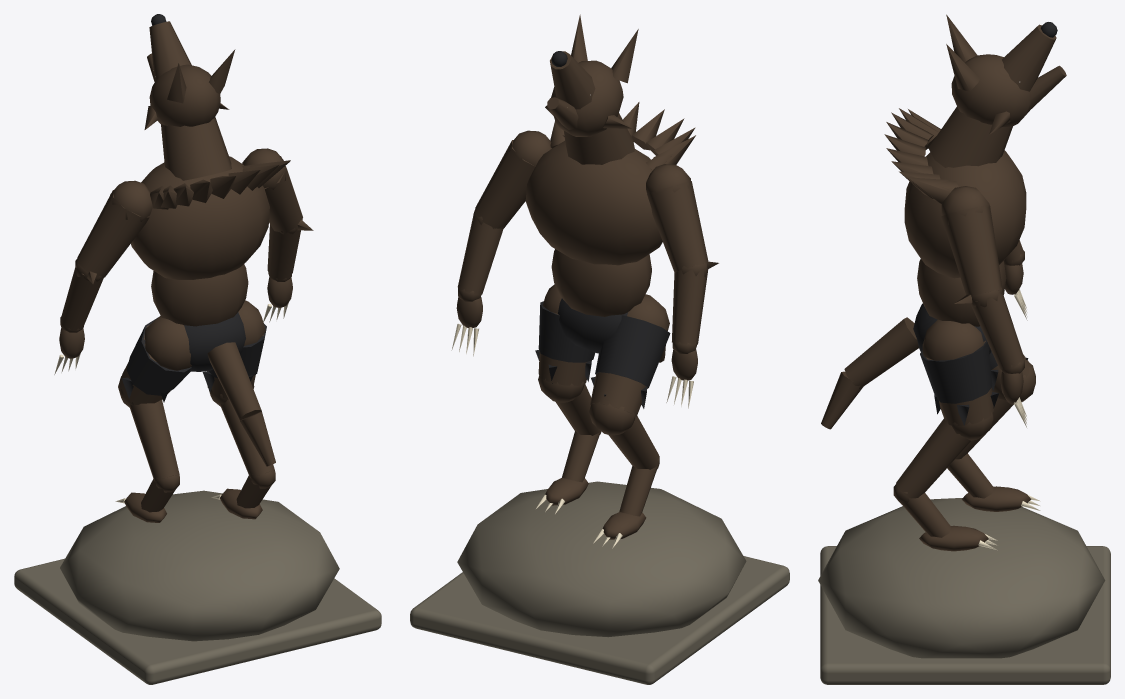
Rendered from WEREWOLF.glb.
3 views of the same model, side by side, from view 1: azimuth 30°, elevation 25°; view 2: azimuth 150°, elevation 25°; view 3: azimuth 270°, elevation 25° (orthographic). The views are drawn at different scales.
Parts seen in each view (by area): view 1: fabric_1, stone_0, tread_3; view 2: fabric_1, stone_0, tread_3, bone_2; view 3: fabric_1, stone_0, tread_3, bone_2.
Boxes of the visible parts, x1,y1,x2,y2 form: fabric_1: [59, 21, 313, 522]; stone_0: [14, 490, 381, 684]; tread_3: [121, 14, 266, 402]; fabric_1: [456, 14, 718, 539]; stone_0: [410, 481, 789, 684]; tread_3: [535, 51, 670, 408]; bone_2: [451, 323, 693, 548]; fabric_1: [821, 14, 1066, 551]; stone_0: [818, 498, 1110, 684]; tread_3: [913, 22, 1057, 425]; bone_2: [978, 289, 1040, 550].
Size of the model in its own units: 1.56 by 3.5 by 1.51.
